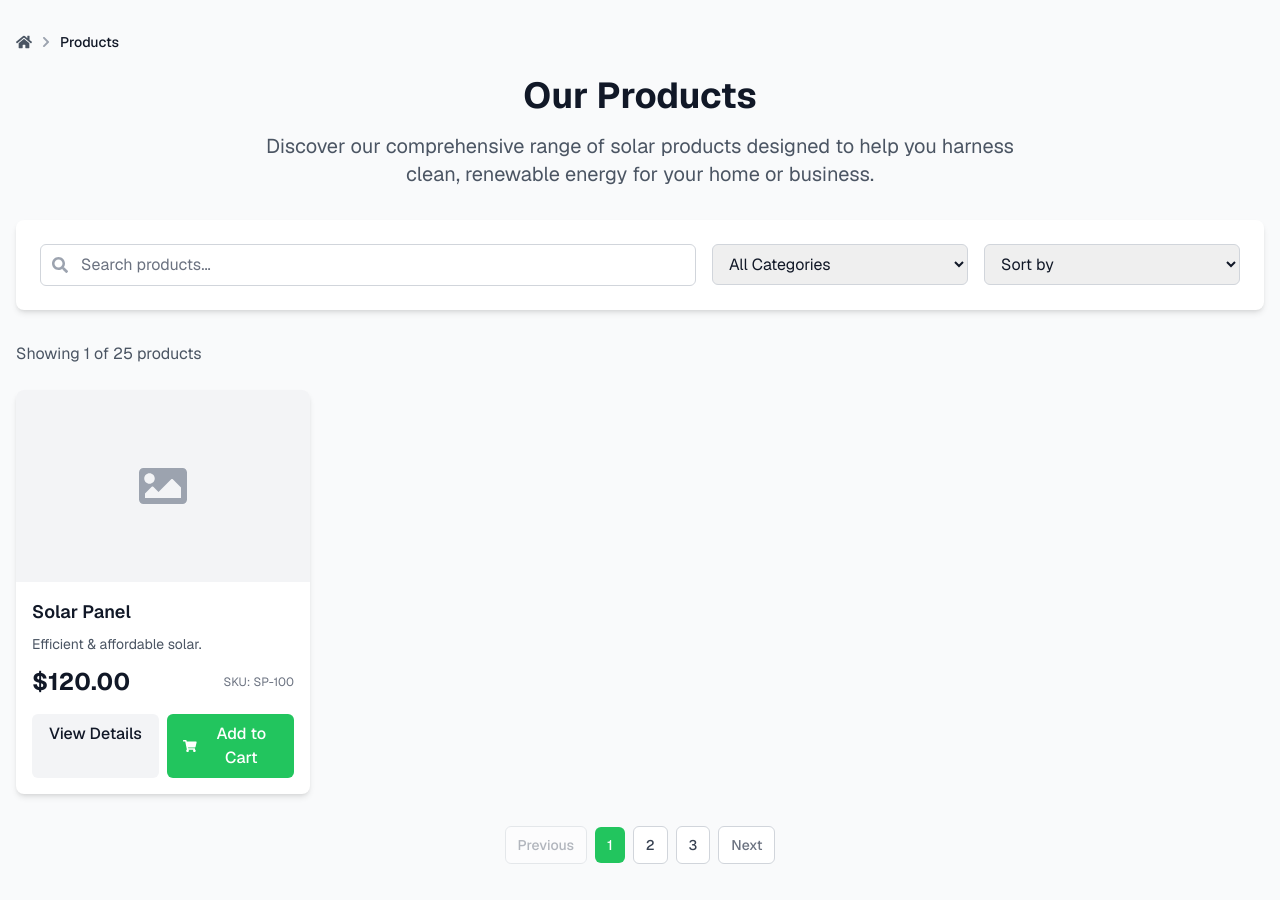
Scenario: server pages and shopping behavior › surfaces interactive catalog failures instead of showing stale products as success
Click the button "Next": (747, 845) left=718, top=826, right=775, bottom=864
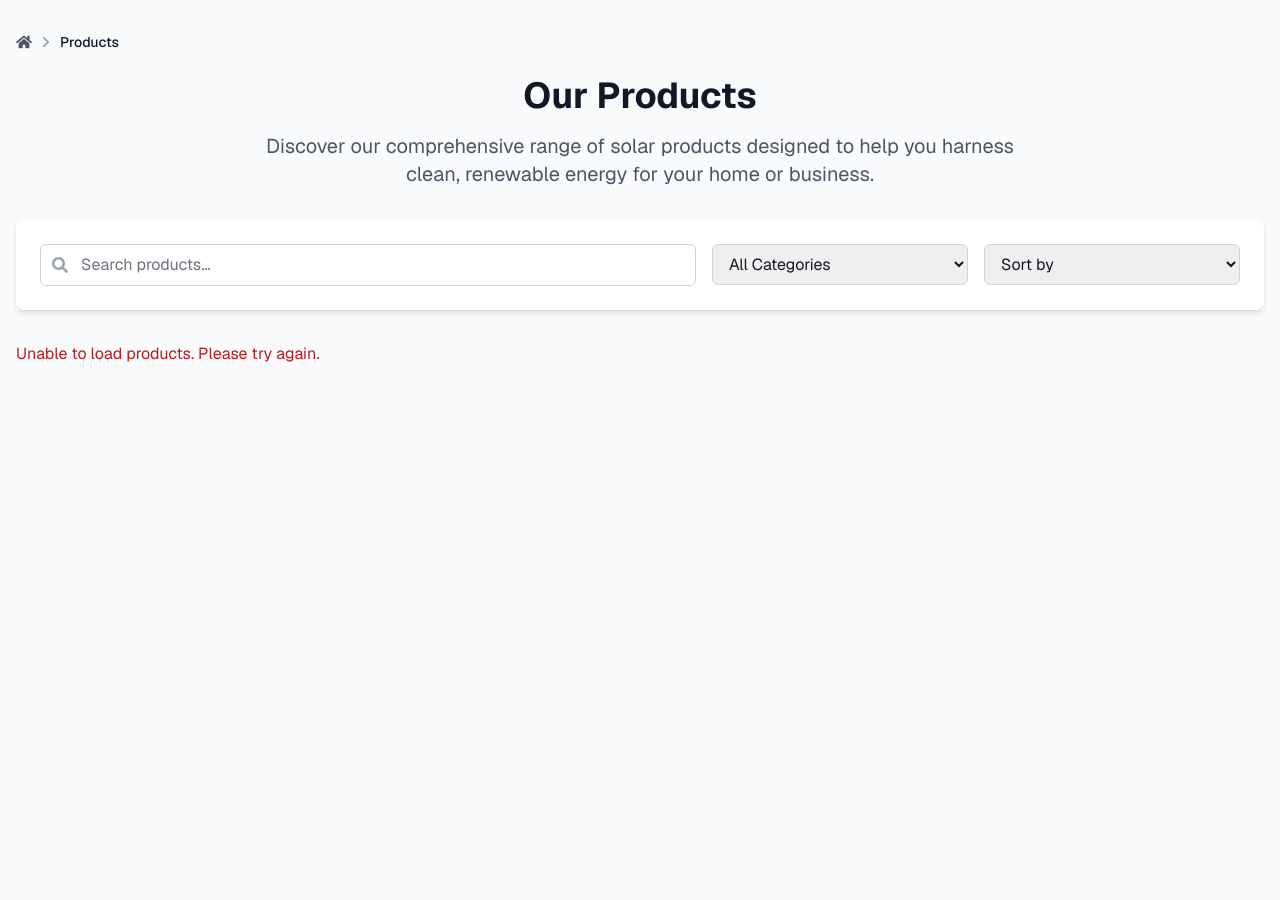
expect the message shows "Unable to load products": met, box left=16, top=343, right=320, bottom=364
